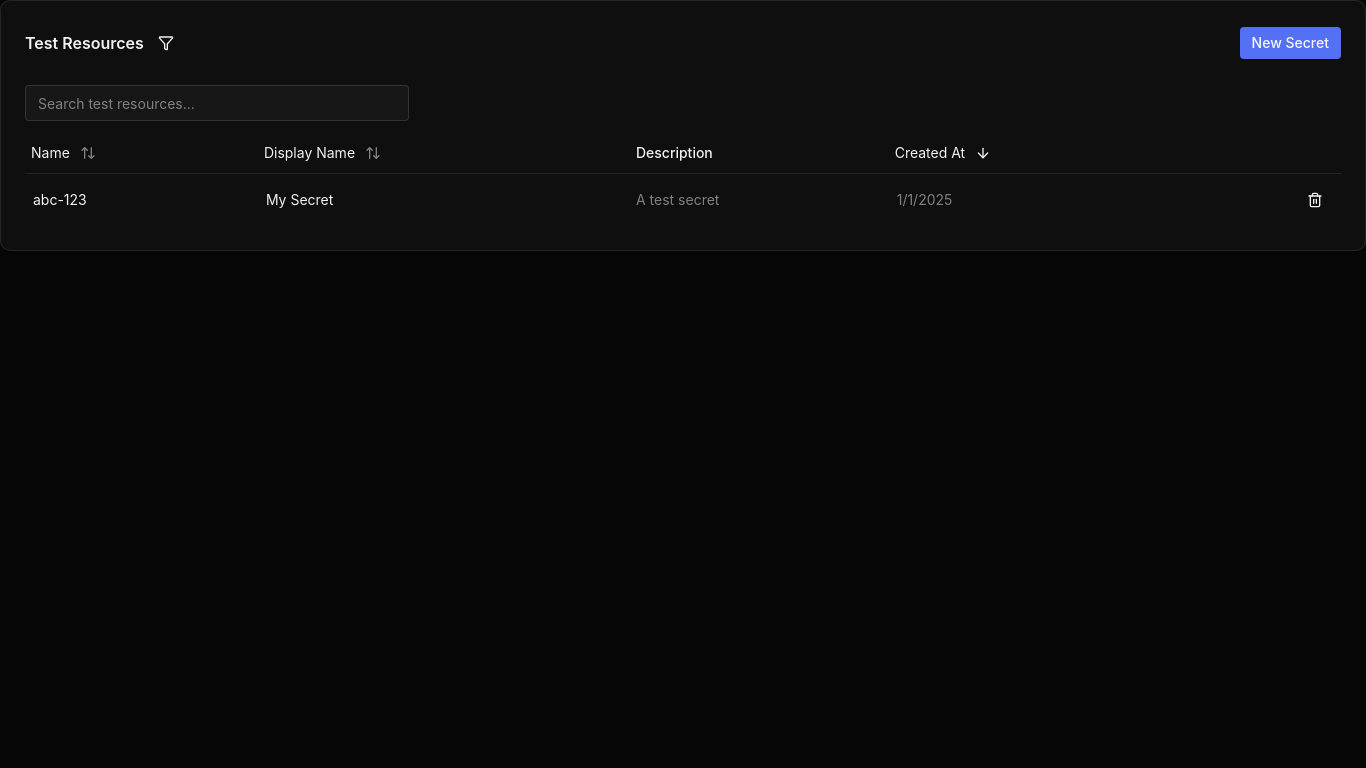
Test: ResourceGrid › opens ConfirmDeleteDialog when trash icon is clicked
Click the button named "delete my secret". click: {"x": 1315, "y": 200}
box: x1=1297 y1=182 x2=1333 y2=218
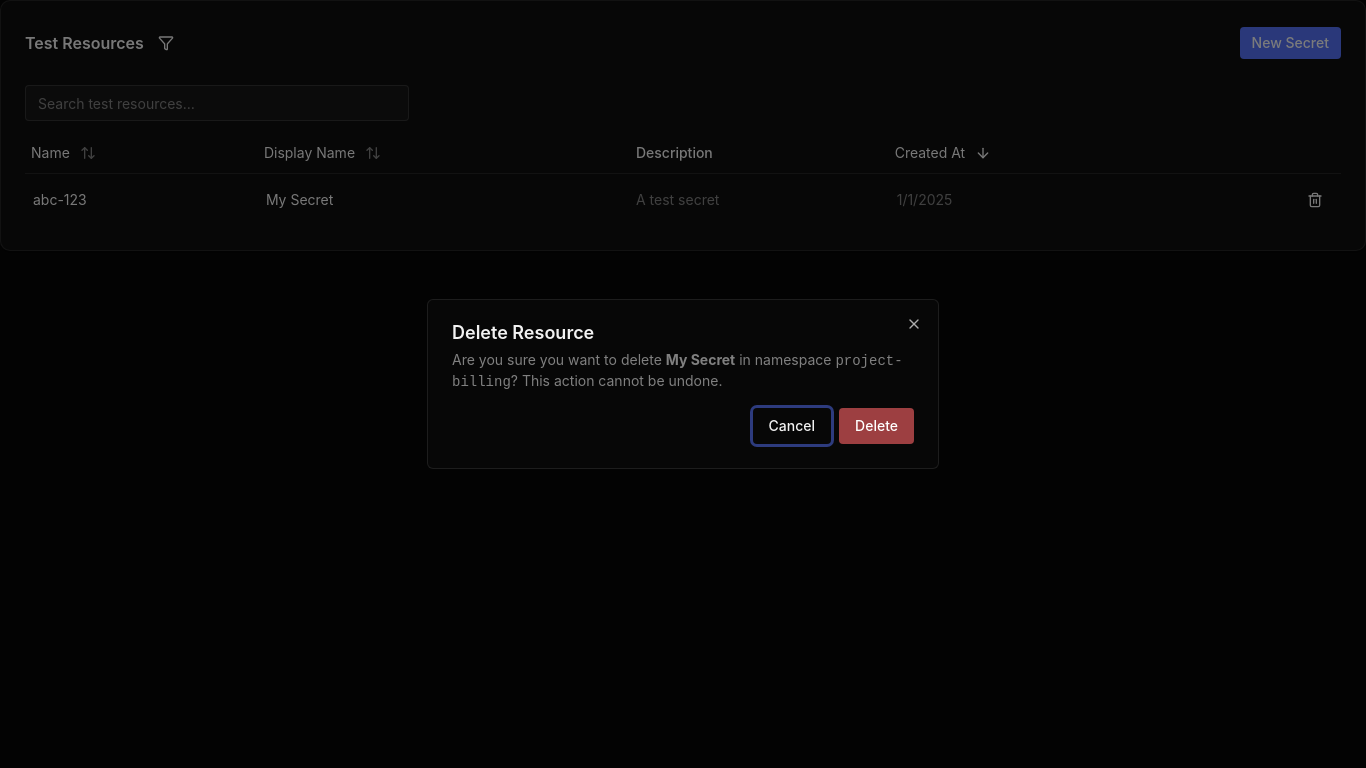
Expected: the dialog is shown, x1=427 y1=299 x2=939 y2=469
